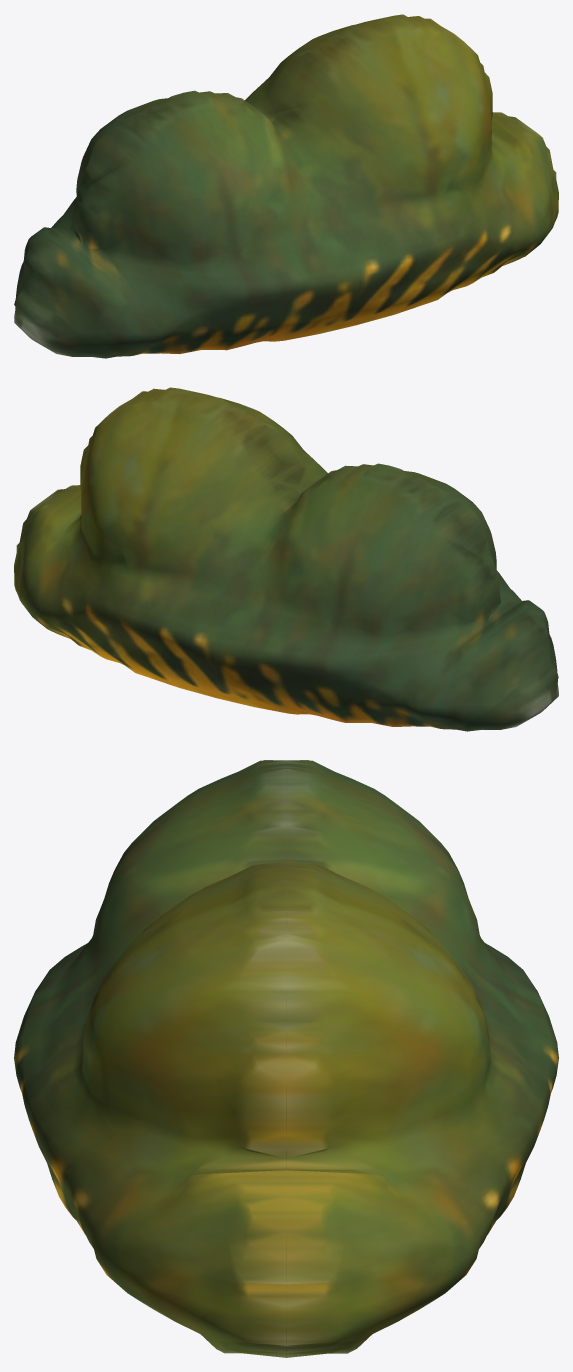
Rendered from 01_rocks_and_bushes_r02_c07.glb.
3 renders of one model, top to bottom at view 1: azimuth 30°, elevation 25°; view 2: azimuth 150°, elevation 25°; view 3: azimuth 270°, elevation 25°, orthographic. The views are drawn at different scales.
Visible parts, largest first — view 1: 01_rocks_and_bushes_r02_c07; view 2: 01_rocks_and_bushes_r02_c07; view 3: 01_rocks_and_bushes_r02_c07.
Boxes of the visible parts, bbox=[...] form: 01_rocks_and_bushes_r02_c07: bbox=[14, 14, 558, 358]; 01_rocks_and_bushes_r02_c07: bbox=[14, 387, 558, 731]; 01_rocks_and_bushes_r02_c07: bbox=[14, 760, 558, 1357].
Size of the model in its own units: 1.79 by 0.8305 by 1.04.
Materials: 1 (1 with a texture image).
